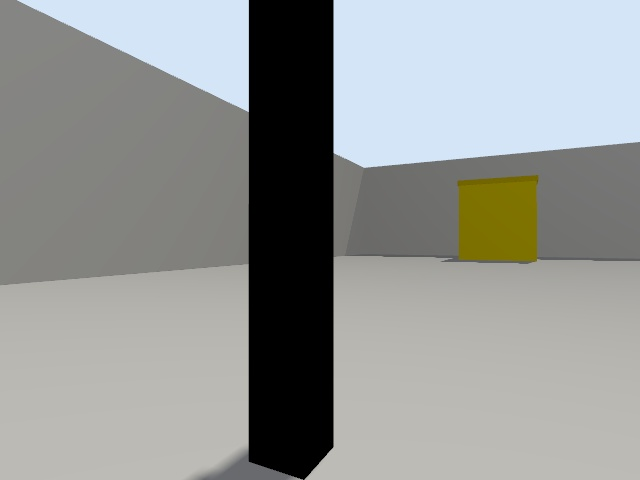boite_lettres: (248, 0, 333, 478)
